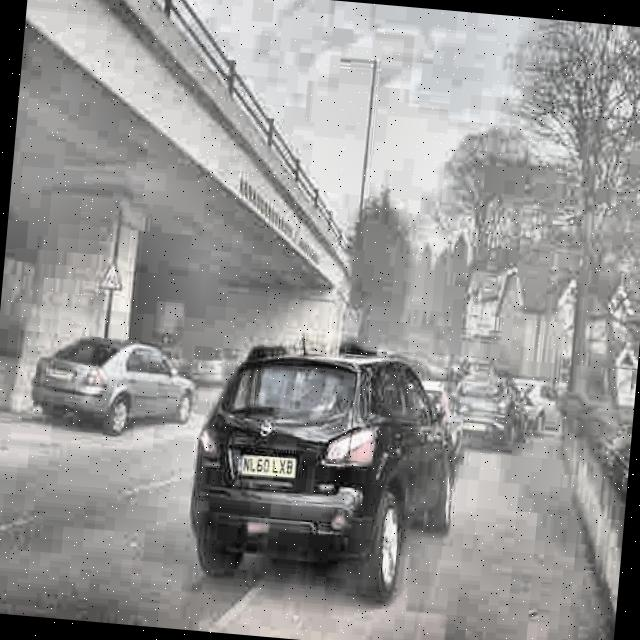license_plate: (233, 452, 300, 484), (44, 364, 75, 386)
